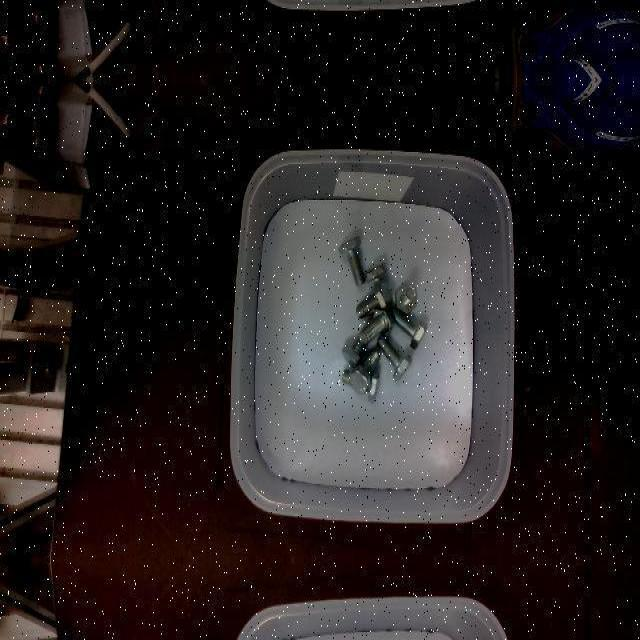screw: (377, 335, 413, 381), (391, 307, 427, 349), (355, 279, 392, 319), (349, 348, 379, 394), (338, 235, 364, 285), (396, 284, 417, 314)
